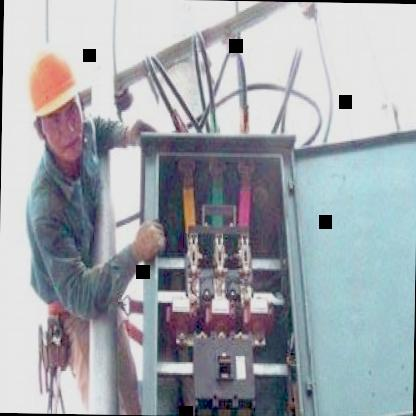helmet: (21, 33, 91, 174)
